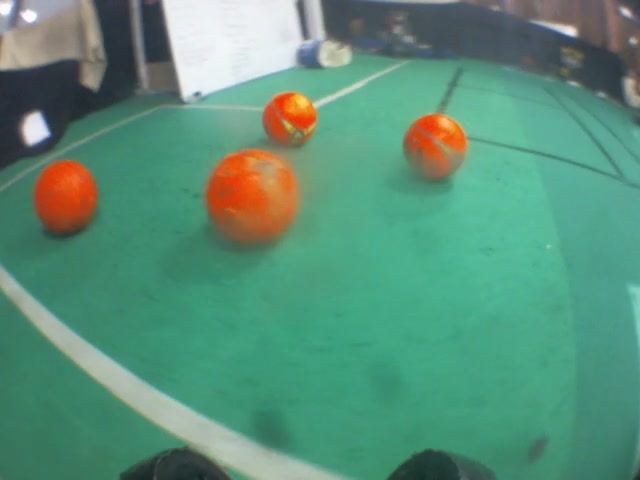ball: (203, 145, 305, 248), (31, 154, 103, 241), (394, 112, 474, 182), (254, 85, 321, 151)
